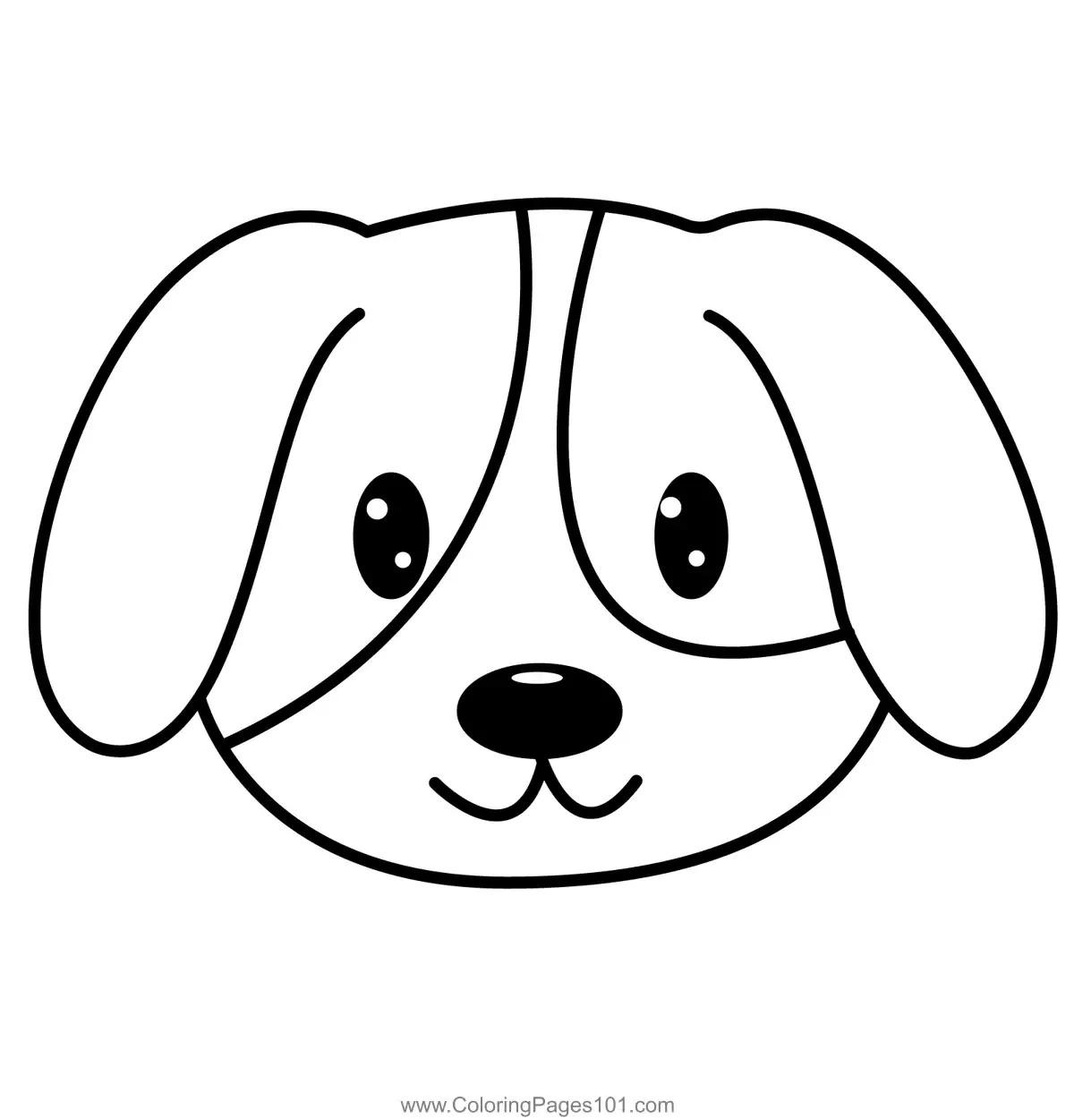puppy-dog: (29, 197, 1058, 888)
